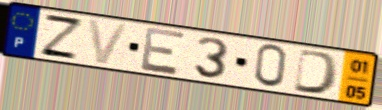0: (252, 43, 289, 90)
3: (192, 37, 231, 80)
D: (291, 47, 341, 97)
E: (139, 25, 189, 77)
V: (85, 17, 131, 66)
Z: (37, 12, 87, 62)
